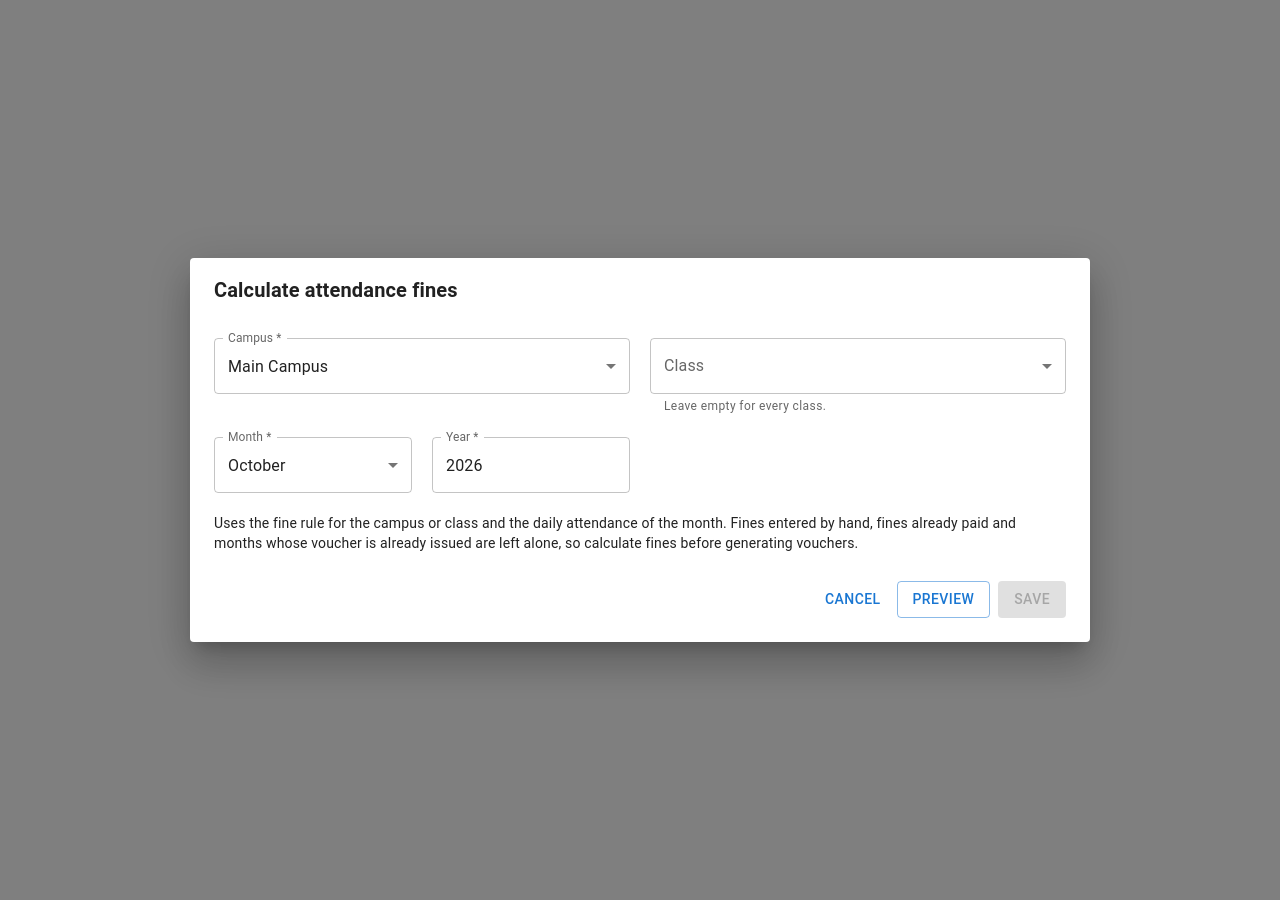
Test: CalculateFinesDialog › cannot save when the preview shows no fines
The image size is (1280, 900).
Click the button "Preview" at (943, 599), box [896,581,990,618]
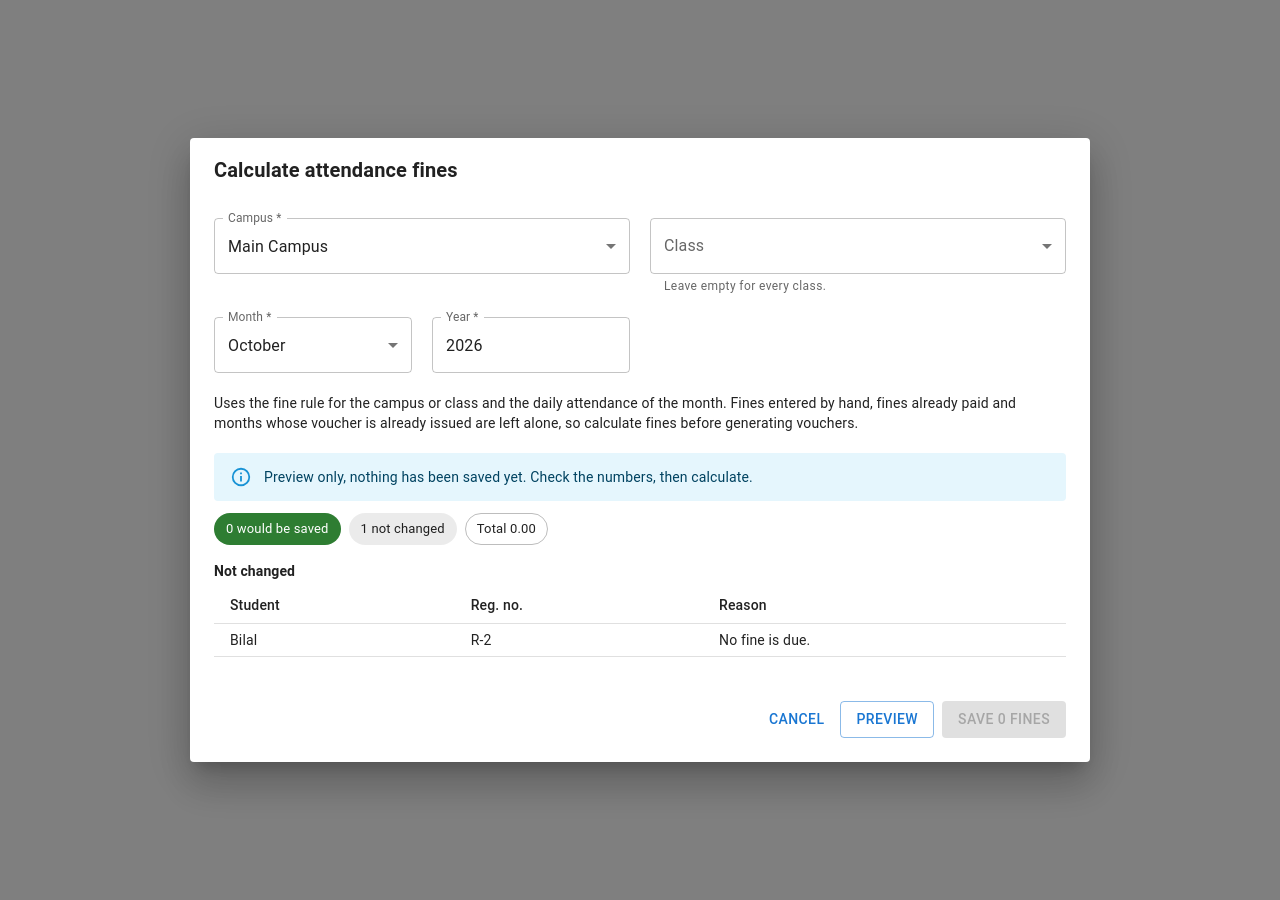
Expected: the button "Save 0 fines" is disabled, [942,701,1066,738]
Now the text "0 would be saved" is shown, box [226,522,328,536]
